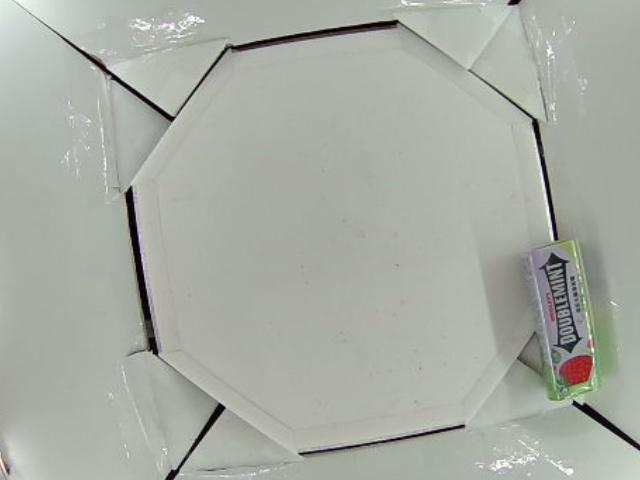Bottle: (524, 239, 605, 403)
